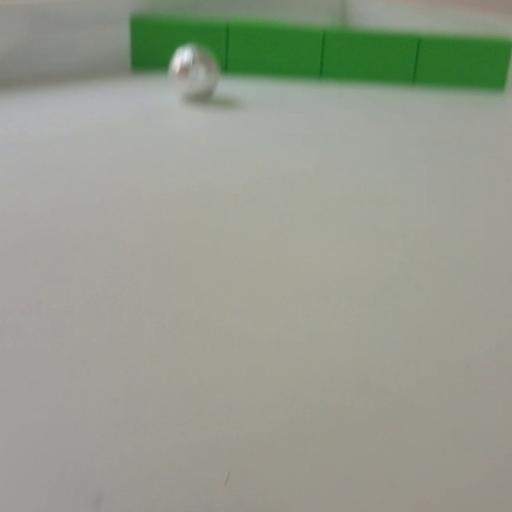alive: (169, 44, 219, 99)
